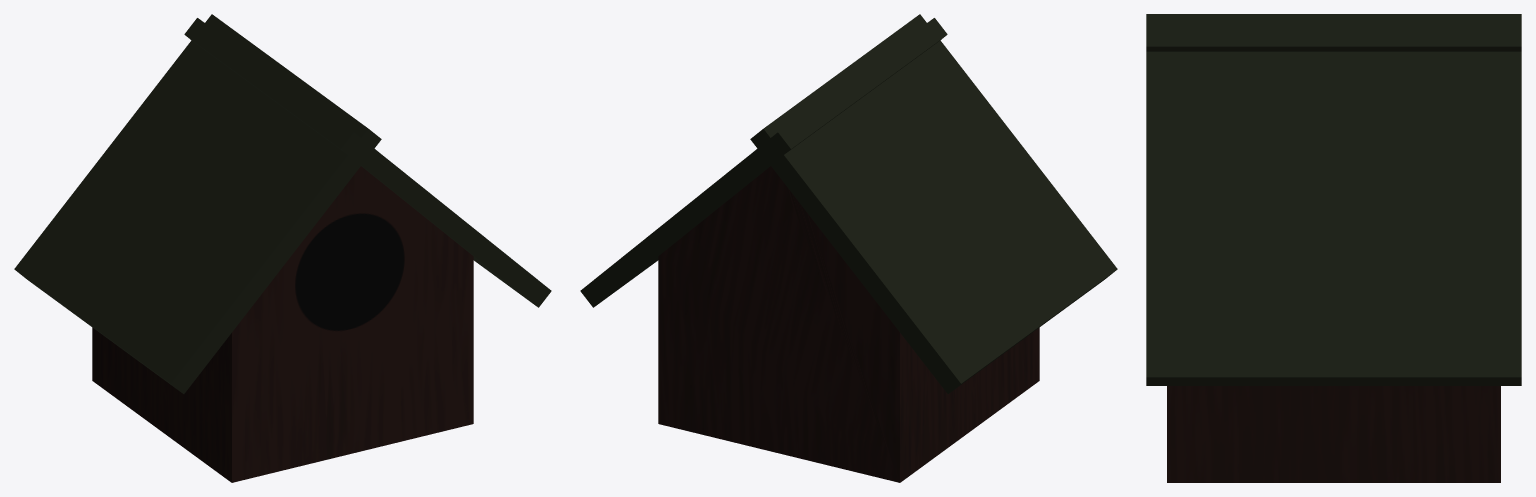
Rendered from LittleHouse.fbx.
3 renders of one model, left to right at view 1: azimuth 30°, elevation 25°; view 2: azimuth 150°, elevation 25°; view 3: azimuth 270°, elevation 25°, orthographic. The views are drawn at different scales.
Visible parts, largest first — view 1: LittleHouseRoof, LittleHouseBody; view 2: LittleHouseRoof, LittleHouseBody; view 3: LittleHouseRoof, LittleHouseBody.
Boxes of the visible parts, bbox=[...] form: LittleHouseRoof: bbox=[14, 14, 551, 393]; LittleHouseBody: bbox=[92, 166, 473, 482]; LittleHouseRoof: bbox=[580, 14, 1117, 393]; LittleHouseBody: bbox=[658, 166, 1039, 482]; LittleHouseRoof: bbox=[1146, 14, 1521, 385]; LittleHouseBody: bbox=[1167, 386, 1500, 482].
Bounding box in the file's own units: 630 × 520 × 449.
Materials: 2 (1 with a texture image).
